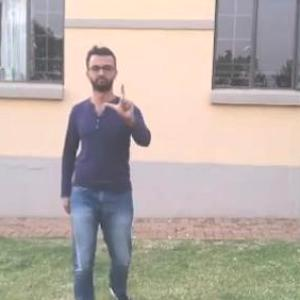land_hand: (102, 77, 138, 121)
